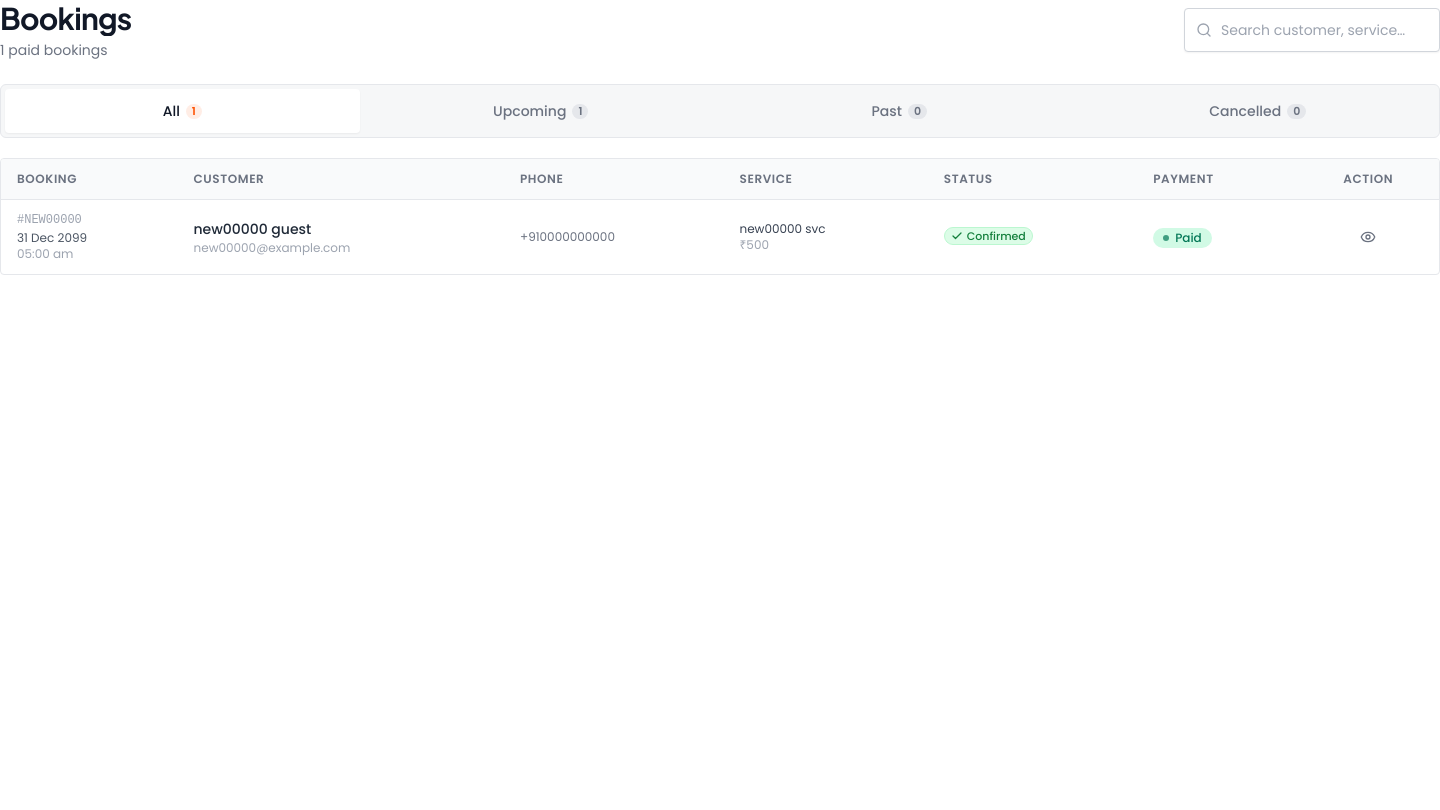
Test: row opens the redesigned details modal with all grouped sections
Check: the text "#NEW00000" is shown, box [17, 213, 82, 227]
Click the button named "view details" at [1368, 237], box [1352, 217, 1384, 257]
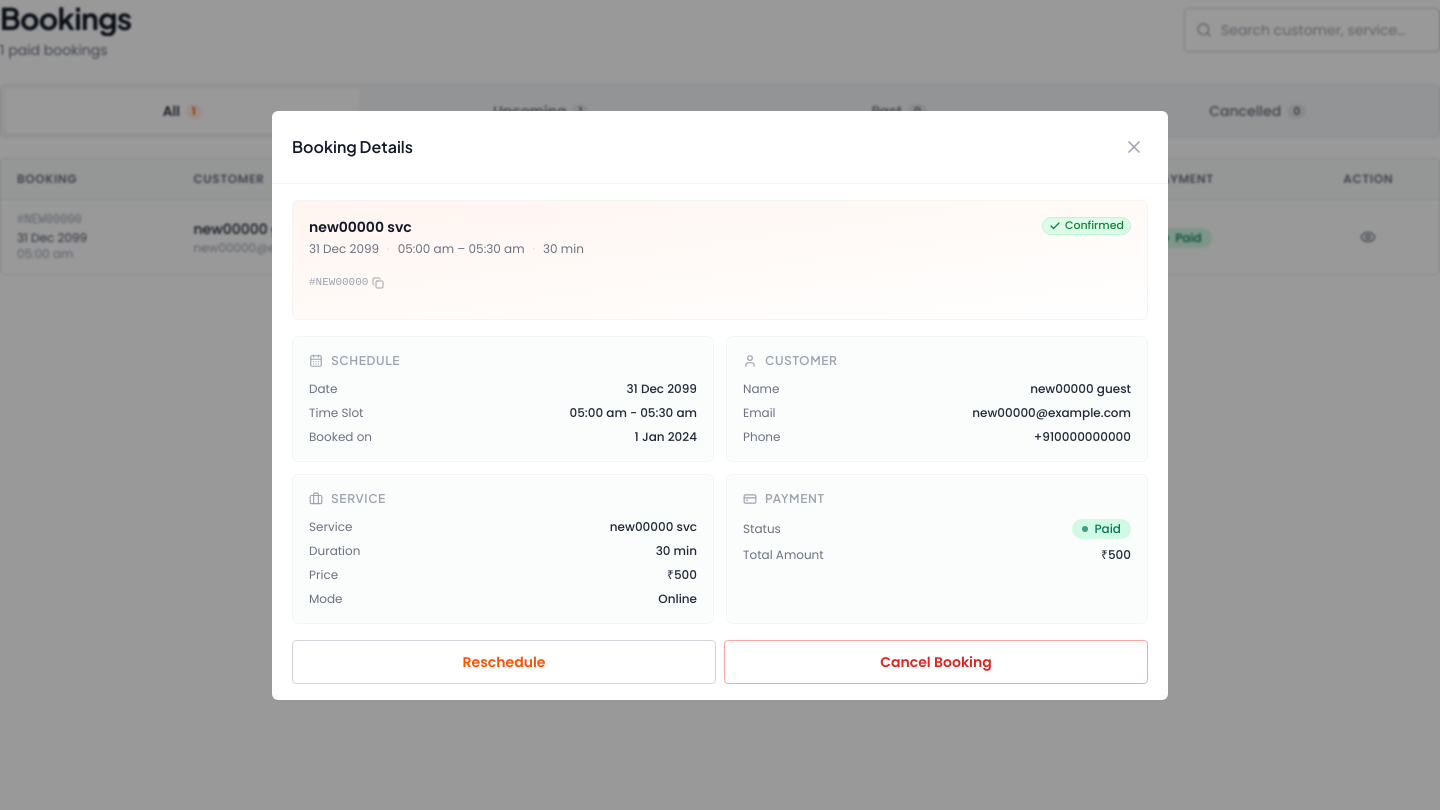
Check: the heading "Schedule" is shown, box [309, 352, 400, 368]
Check: the heading "Customer" is shown, box [743, 352, 838, 368]
Check: the heading "Service" is shown, box [309, 490, 386, 506]
